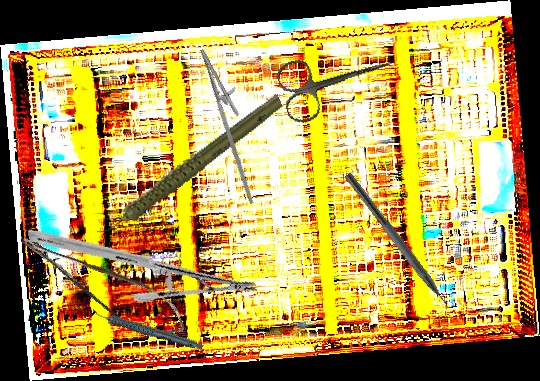Chopper: (334, 171, 460, 324)
Handpiece: (73, 91, 303, 239), (91, 287, 204, 371)
Iris Scissors: (274, 34, 401, 126)
Micro Scissor: (17, 207, 194, 356)
Needle Holder: (26, 173, 259, 350), (181, 43, 284, 205)
